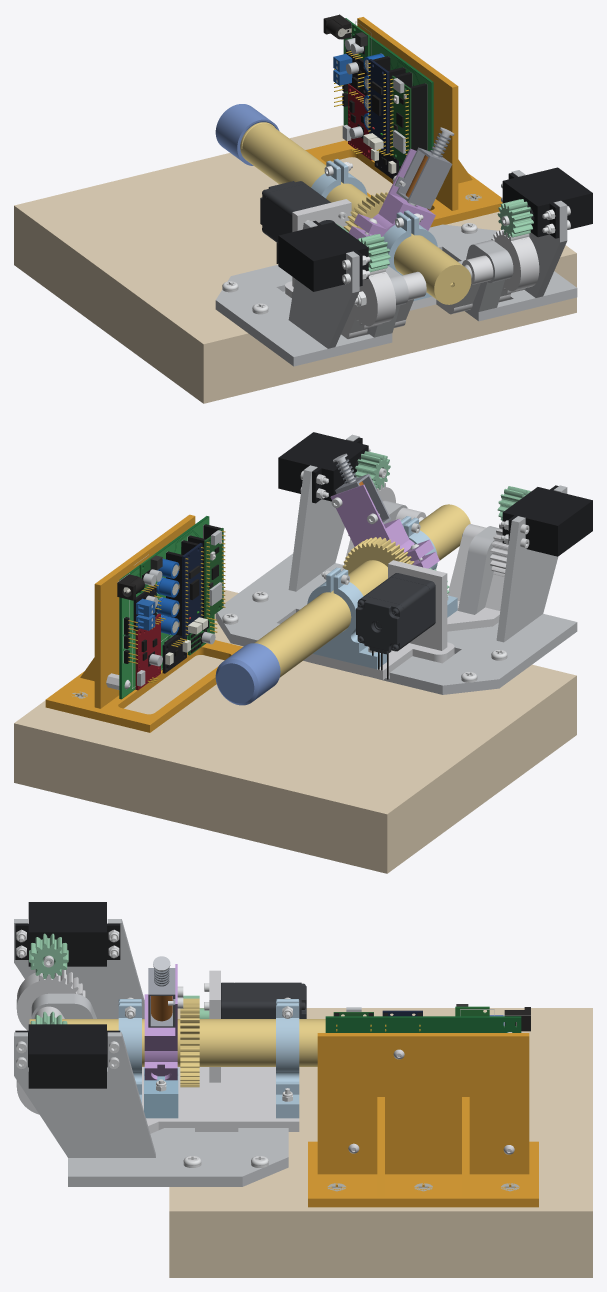
Rendered from assembly_servos_above.glb.
3 renders of one model, top to bottom at view 1: azimuth 30°, elevation 25°; view 2: azimuth 150°, elevation 25°; view 3: azimuth 270°, elevation 25°, orthographic. The views are drawn at different scales.
Visible parts, largest first — view 1: assembly_servos_above (×23); view 2: assembly_servos_above (×24); view 3: assembly_servos_above (×15).
Boxes of the visible parts, x1,y1,x2,y2 form: assembly_servos_above (×23): [14, 17, 592, 403]; assembly_servos_above (×24): [14, 432, 592, 873]; assembly_servos_above (×15): [14, 902, 592, 1277].
Size of the model in its own units: 0.25 by 0.141 by 0.3007.
